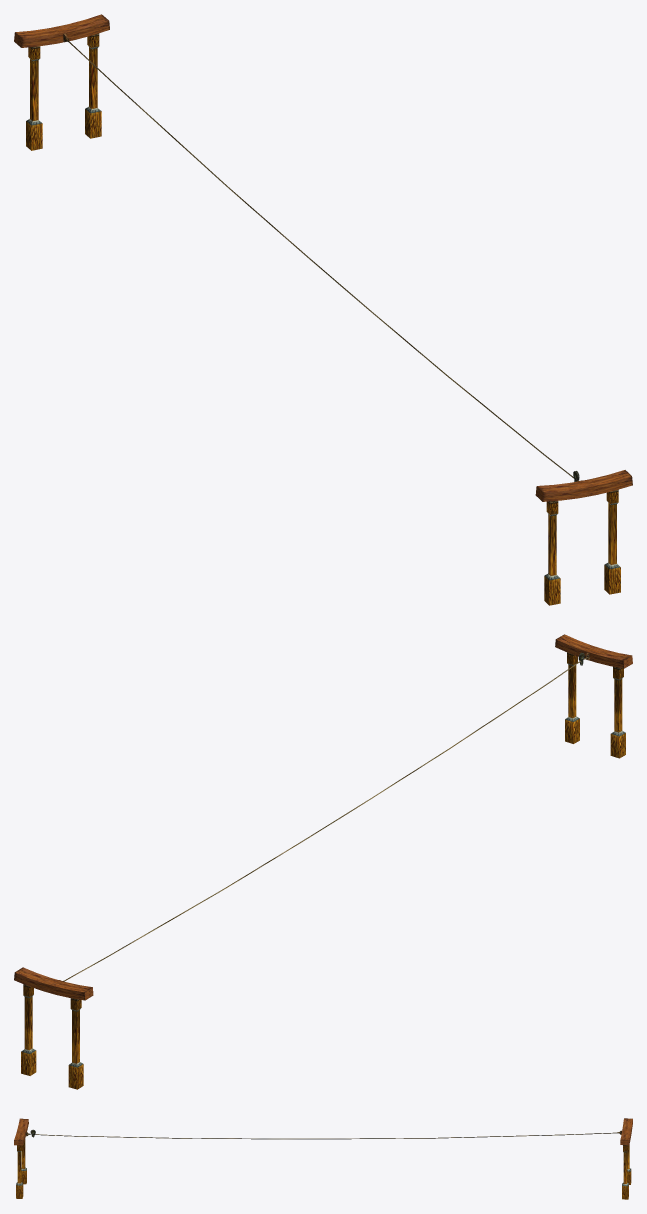
File: CB_ZIPLINE_ANIM01.fbx
3 views of the same model, one above another, from view 1: azimuth 30°, elevation 25°; view 2: azimuth 150°, elevation 25°; view 3: azimuth 270°, elevation 25° (orthographic). The views are drawn at different scales.
Parts seen in each view (by area): view 1: CB_ZIPLINE_ANIM01; view 2: CB_ZIPLINE_ANIM01; view 3: CB_ZIPLINE_ANIM01.
Part boxes in pixels (bbox=[...]): CB_ZIPLINE_ANIM01: bbox=[14, 14, 632, 605]; CB_ZIPLINE_ANIM01: bbox=[14, 634, 632, 1089]; CB_ZIPLINE_ANIM01: bbox=[14, 1118, 632, 1199].
Bounding box in the file's own units: 63449 × 62540 × 473908.
Materials: 8 (8 with a texture image).
